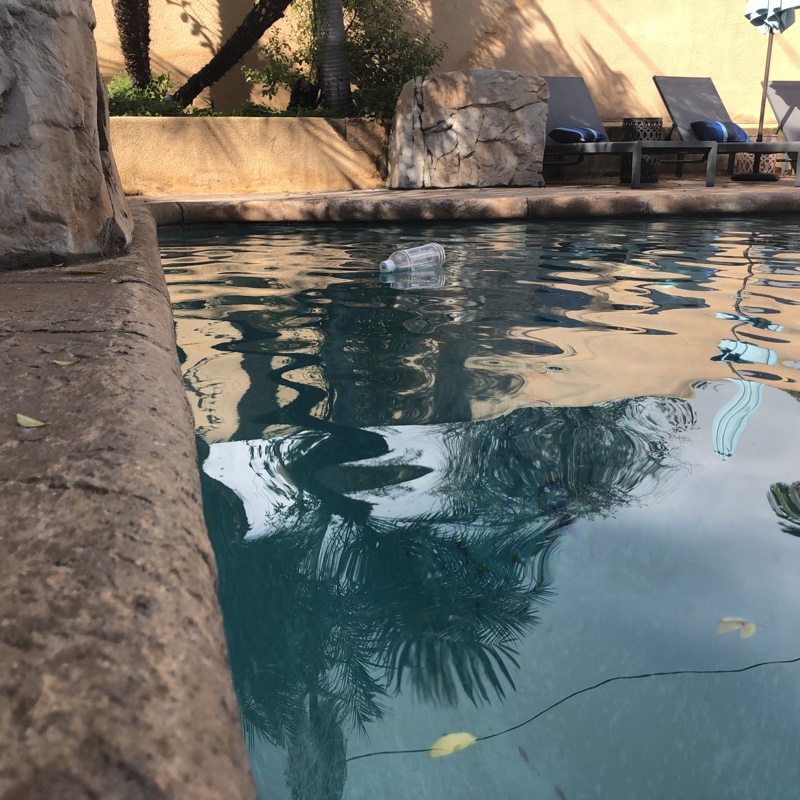Plastic Bottle: (377, 241, 452, 281)
